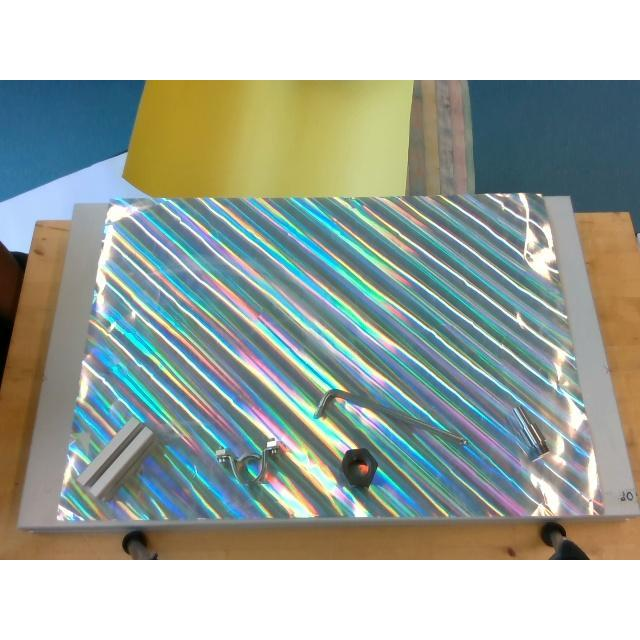AllenKey: (314, 389, 470, 446)
Axis2: (514, 404, 550, 460)
Housing: (216, 438, 280, 484)
M30: (341, 448, 377, 488)
S40_40_G: (77, 419, 157, 499)
